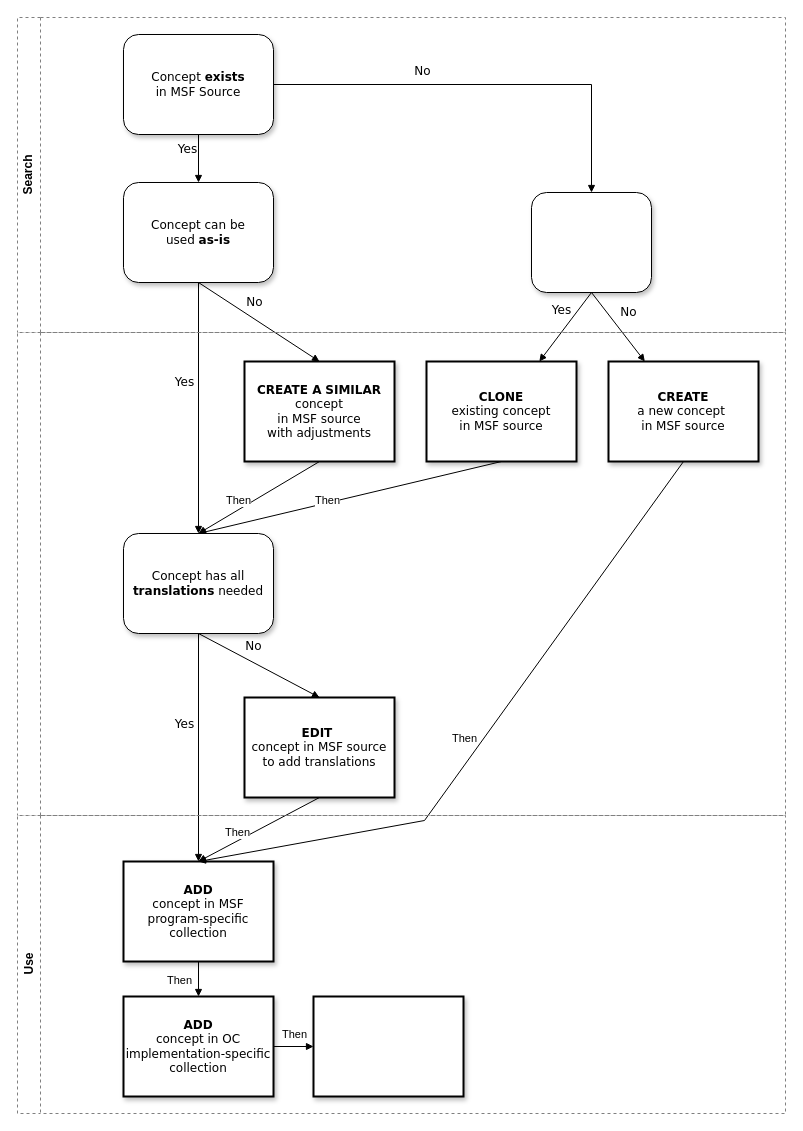
Image size: 803x1131. Some labels were removed from this diagram. Here are the shapes that lost their labels. From the top down, the centre of each, then its label:
At (592,244): "Concept exists in CIEL or PIH source".
At (401,574): "Author".
At (389,1047): "RELEASE the implementation-specific collection".
